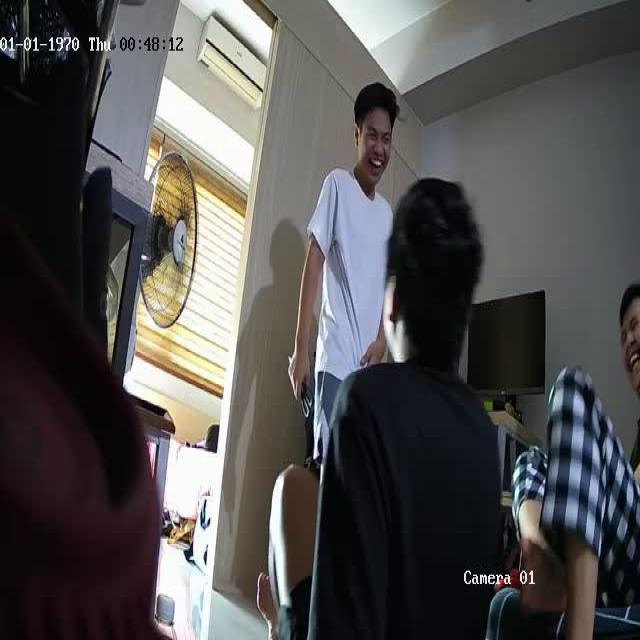scissor: (289, 358, 314, 418)
